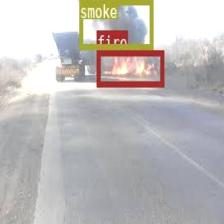fire: (96, 49, 163, 86)
smoke: (78, 0, 152, 49)
